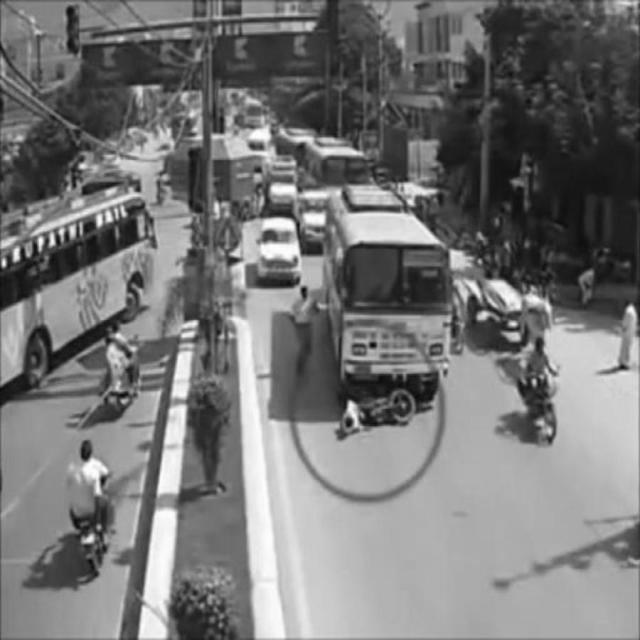accident: (327, 196, 449, 444)
person: (290, 282, 316, 382)
vehicle: (3, 181, 160, 379), (63, 442, 117, 574), (514, 336, 560, 438), (102, 324, 143, 408), (259, 214, 301, 284)
